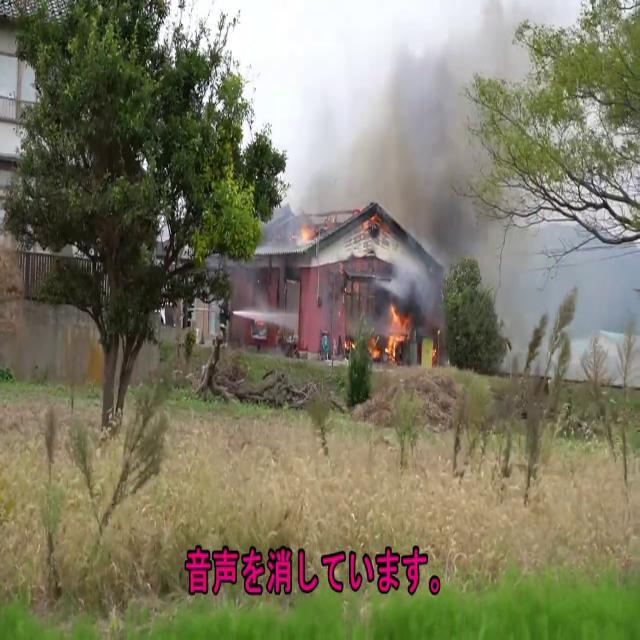Fire: (381, 295, 414, 361)
Smoke: (272, 0, 504, 244)
